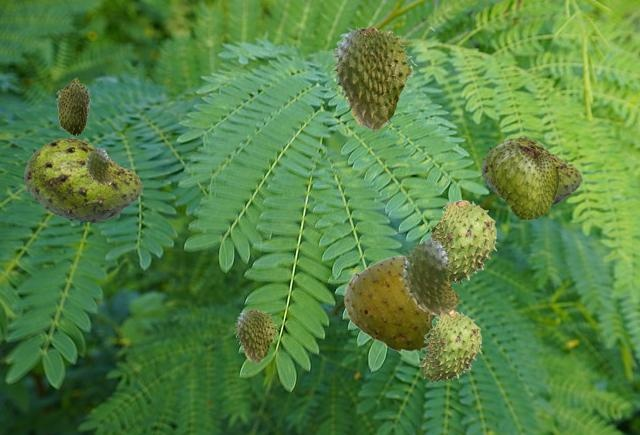guyabano: (23, 137, 142, 222), (330, 26, 416, 132), (342, 255, 435, 353), (481, 137, 581, 206), (428, 200, 496, 284), (490, 139, 558, 219), (399, 236, 459, 321), (418, 311, 481, 382), (234, 309, 278, 363), (56, 77, 90, 135), (84, 146, 113, 187)
